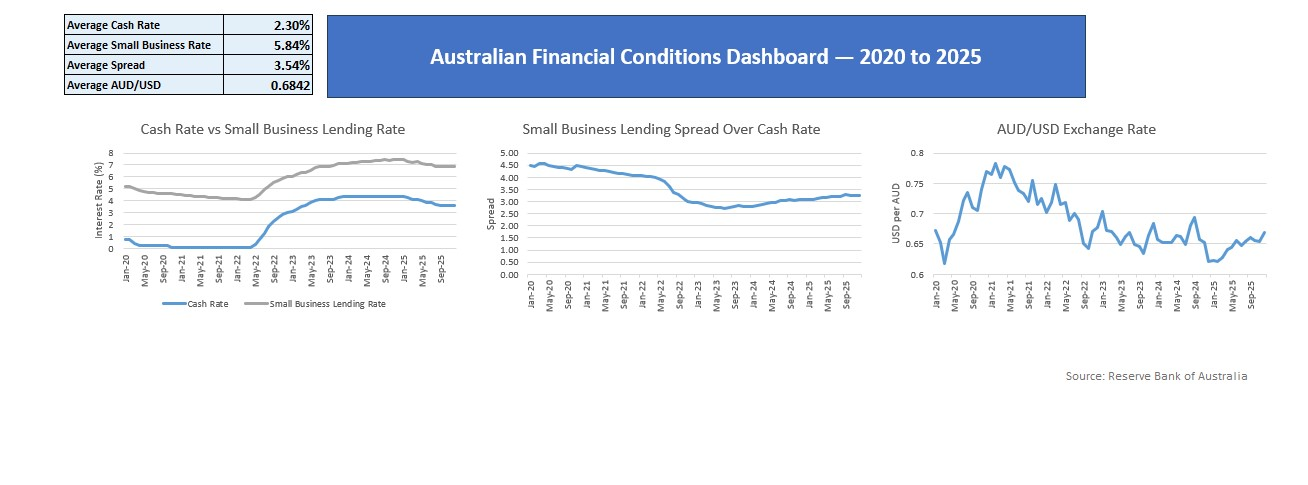

Layout of this report page (visuals, bound fields, positions):
{"tool":"powerbi","page":{"name":"Page 1","canvas":[1600,1200],"ordinal":0},"visuals":[{"type":"cardVisual","fields":{"Data":["Cash_Rates2.Average Cash Rate"]},"box":[163.1,136.2,220.4,88.3],"z":0},{"type":"cardVisual","fields":{"Data":["Business_Rates3.Average Lending Rate"]},"box":[383.8,136.2,220.4,88.3],"z":1000},{"type":"cardVisual","fields":{"Data":["Financial_Conditions4.Average Lending Spread"]},"box":[604.6,139.2,221.5,81.5],"z":2000},{"type":"cardVisual","fields":{"Data":["Exchange_Rates1.Average AUD/USD"]},"box":[826.2,136.2,220.4,88.3],"z":3000},{"type":"lineChart","title":"Cash Rate vs Small Business Lending Rate","fields":{"Category":["Financial_Conditions4.Date"],"Y":["Avg(Financial_Conditions4.Cash_Rates)","Avg(Financial_Conditions4.Small_Business_Total)"]},"box":[163.1,239.2,882.3,250],"z":4000},{"type":"lineChart","title":"Small Business Lending Spread","fields":{"Category":["Financial_Conditions4.Date"],"Y":["Financial_Conditions4.Average Lending Spread"]},"box":[162.7,510.9,430,250],"z":5000},{"type":"lineChart","title":"AUD/USD Exchange Rate","fields":{"Category":["Financial_Conditions4.Date"],"Y":["Avg(Financial_Conditions4.AUD/USD)"]},"box":[623.6,510.9,420.9,250],"z":6000},{"type":"textbox","box":[162.7,45.5,487.7,75.4],"z":7000},{"type":"textbox","box":[162.7,94.5,255.4,33.1],"z":8000},{"type":"shape","box":[162.7,782.7,881.8,208.2],"z":9000},{"type":"textbox","box":[170.9,791.8,864.5,183.6],"z":10000}]}

Visuals, with their boxes on the page's 1600x1200 design canvas (x1, y1, x2, y2). These are canvas units, not pixel positions in the 1308x485 screenshot, which may show the page scaled, cropped or inside an application window:
cardVisual - Cash_Rates2.Average Cash Rate: crop(163, 136, 384, 224)
cardVisual - Business_Rates3.Average Lending Rate: crop(384, 136, 604, 224)
cardVisual - Financial_Conditions4.Average Lending Spread: crop(605, 139, 826, 221)
cardVisual - Exchange_Rates1.Average AUD/USD: crop(826, 136, 1047, 224)
"Cash Rate vs Small Business Lending Rate" lineChart: crop(163, 239, 1045, 489)
"Small Business Lending Spread" lineChart: crop(163, 511, 593, 761)
"AUD/USD Exchange Rate" lineChart: crop(624, 511, 1044, 761)
textbox: crop(163, 46, 650, 121)
textbox: crop(163, 94, 418, 128)
shape: crop(163, 783, 1044, 991)
textbox: crop(171, 792, 1035, 975)
